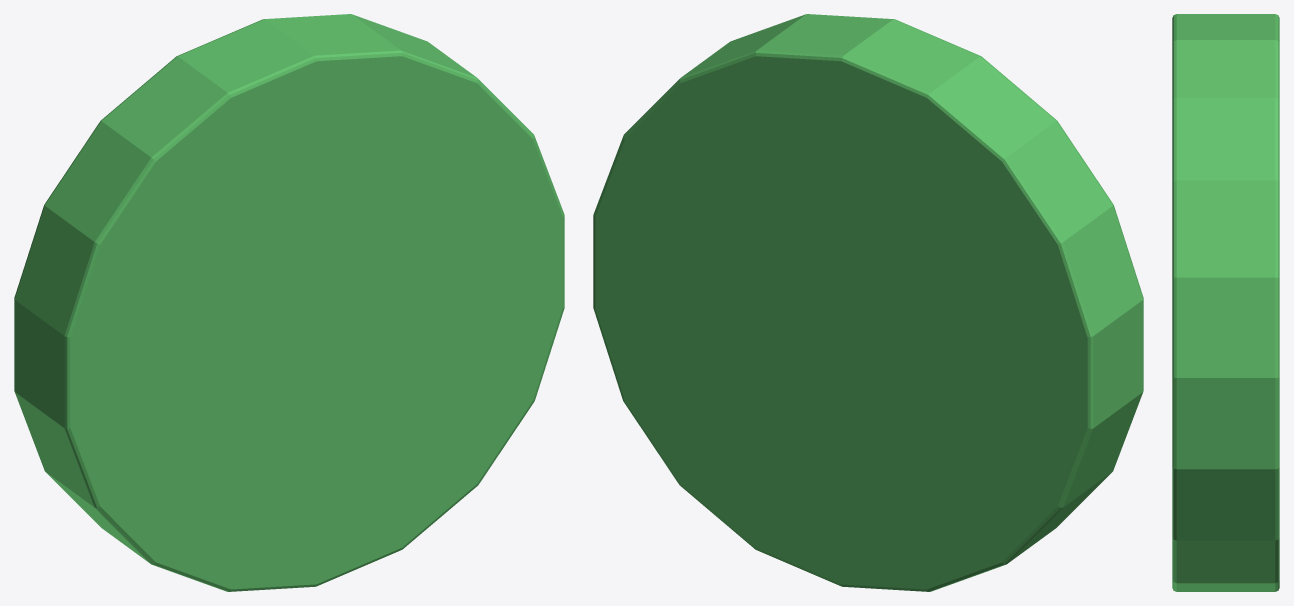
The model's file is aspis_reinforced_elite_collision.glb.
3 renders of one model, left to right at view 1: azimuth 30°, elevation 25°; view 2: azimuth 150°, elevation 25°; view 3: azimuth 270°, elevation 25°, orthographic.
Visible parts, largest first — view 1: aspis_reinforced_elite-convcol; view 2: aspis_reinforced_elite-convcol; view 3: aspis_reinforced_elite-convcol.
Boxes of the visible parts, x1,y1,x2,y2 form: aspis_reinforced_elite-convcol: (14, 14, 564, 591); aspis_reinforced_elite-convcol: (593, 14, 1143, 591); aspis_reinforced_elite-convcol: (1172, 14, 1279, 591).
Bounding box in the file's own units: 1.06 × 1.08 × 0.2.
